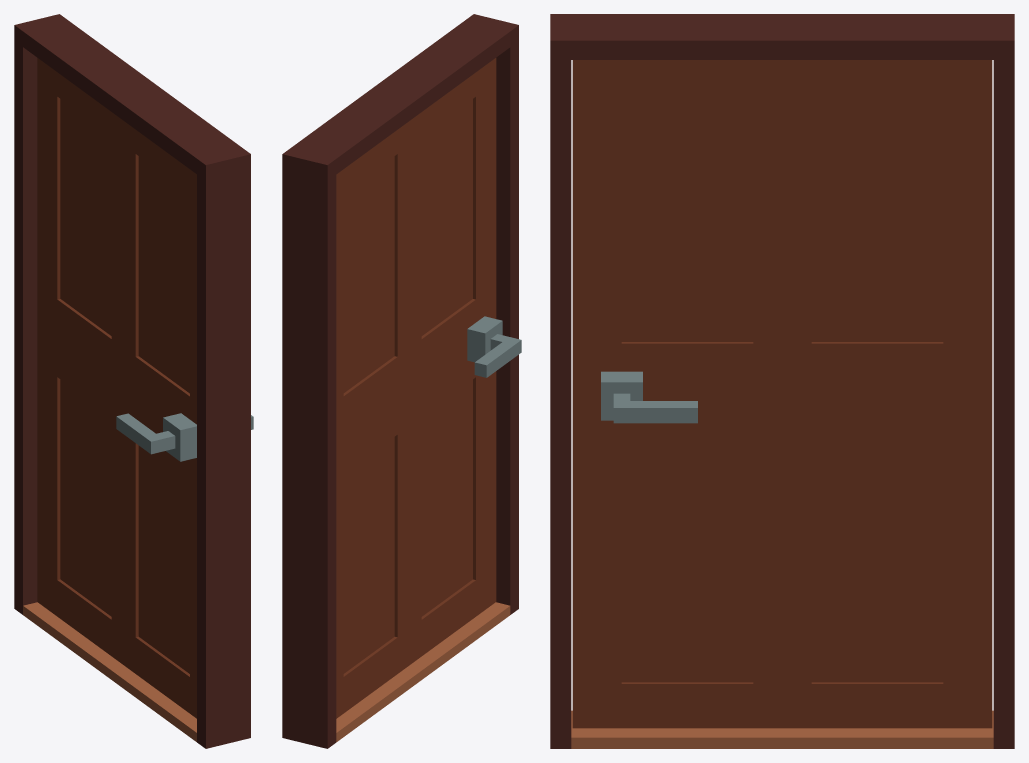
Rendered from door3.fbx.
3 views of the same model, side by side, from view 1: azimuth 30°, elevation 25°; view 2: azimuth 150°, elevation 25°; view 3: azimuth 270°, elevation 25° (orthographic). The views are drawn at different scales.
Parts seen in each view (by area): view 1: door, doorframe, doorstep, Cube, handlemount; view 2: door, doorframe, doorstep, Cube, handlemount; view 3: door, doorframe, doorstep, Cube, handlemount.
Part boxes in pixels (bbox=[...]): door: bbox=[37, 58, 196, 718]; doorframe: bbox=[14, 14, 250, 748]; doorstep: bbox=[23, 602, 196, 741]; Cube: bbox=[116, 413, 253, 454]; handlemount: bbox=[163, 413, 196, 461]; door: bbox=[336, 58, 496, 718]; doorframe: bbox=[282, 14, 518, 748]; doorstep: bbox=[336, 602, 510, 742]; Cube: bbox=[474, 334, 521, 377]; handlemount: bbox=[467, 316, 502, 362]; door: bbox=[572, 60, 992, 728]; doorframe: bbox=[550, 14, 1014, 748]; doorstep: bbox=[571, 710, 993, 748]; Cube: bbox=[613, 393, 697, 423]; handlemount: bbox=[601, 371, 642, 420].
Bounding box in the file's own units: 0.34 × 1.85 × 1.1.
